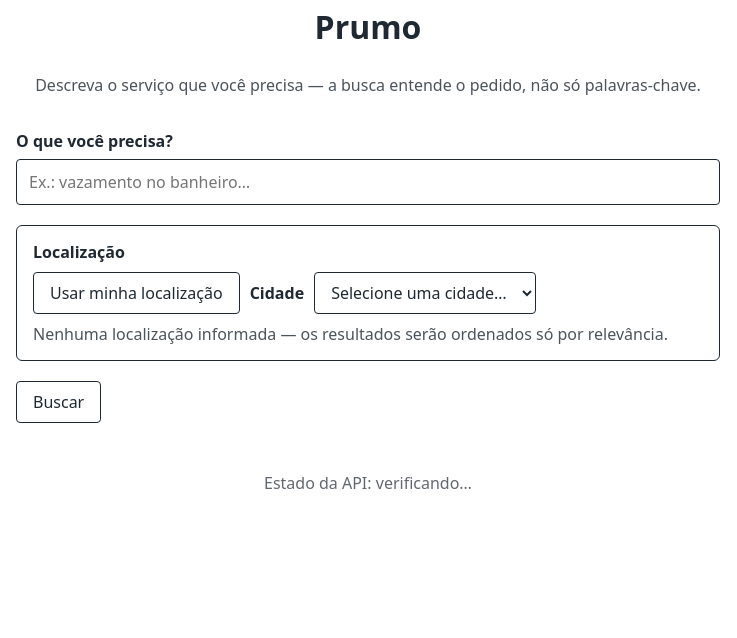
App — tela de busca › mode: degraded — aviso visível junto dos resultados
Type "vazamento no banheiro" into the field labelled "O que você precisa?" at (368, 182), box left=16, top=159, right=720, bottom=205
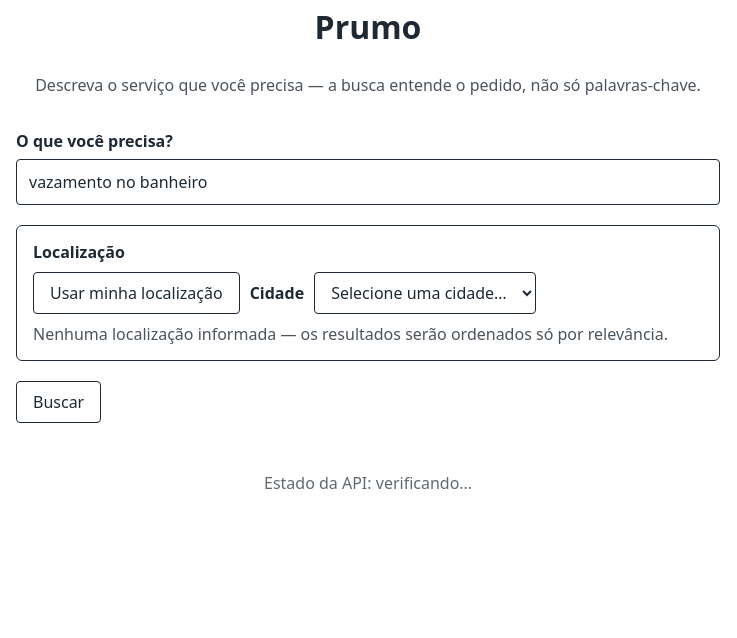
Click the button "Buscar" at (59, 402), box left=16, top=381, right=101, bottom=423
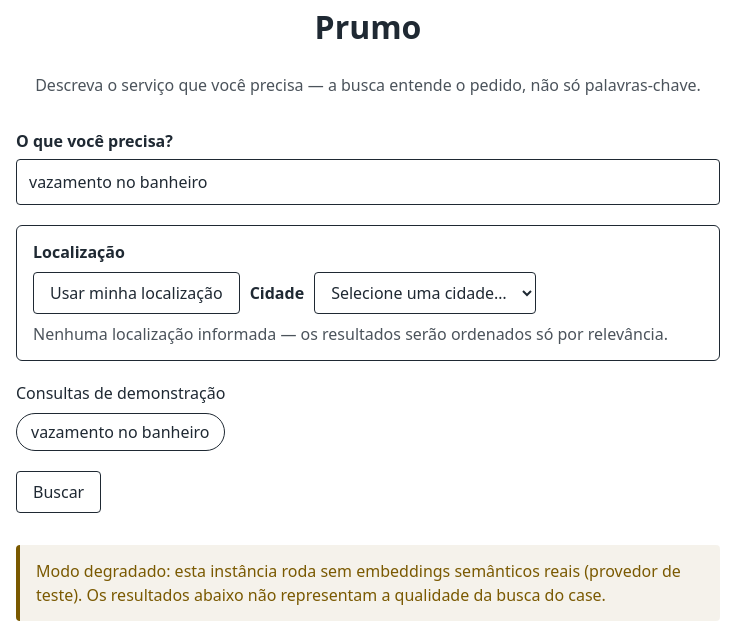
expect the text "Modo degradado" is shown: met, box left=36, top=560, right=681, bottom=606
